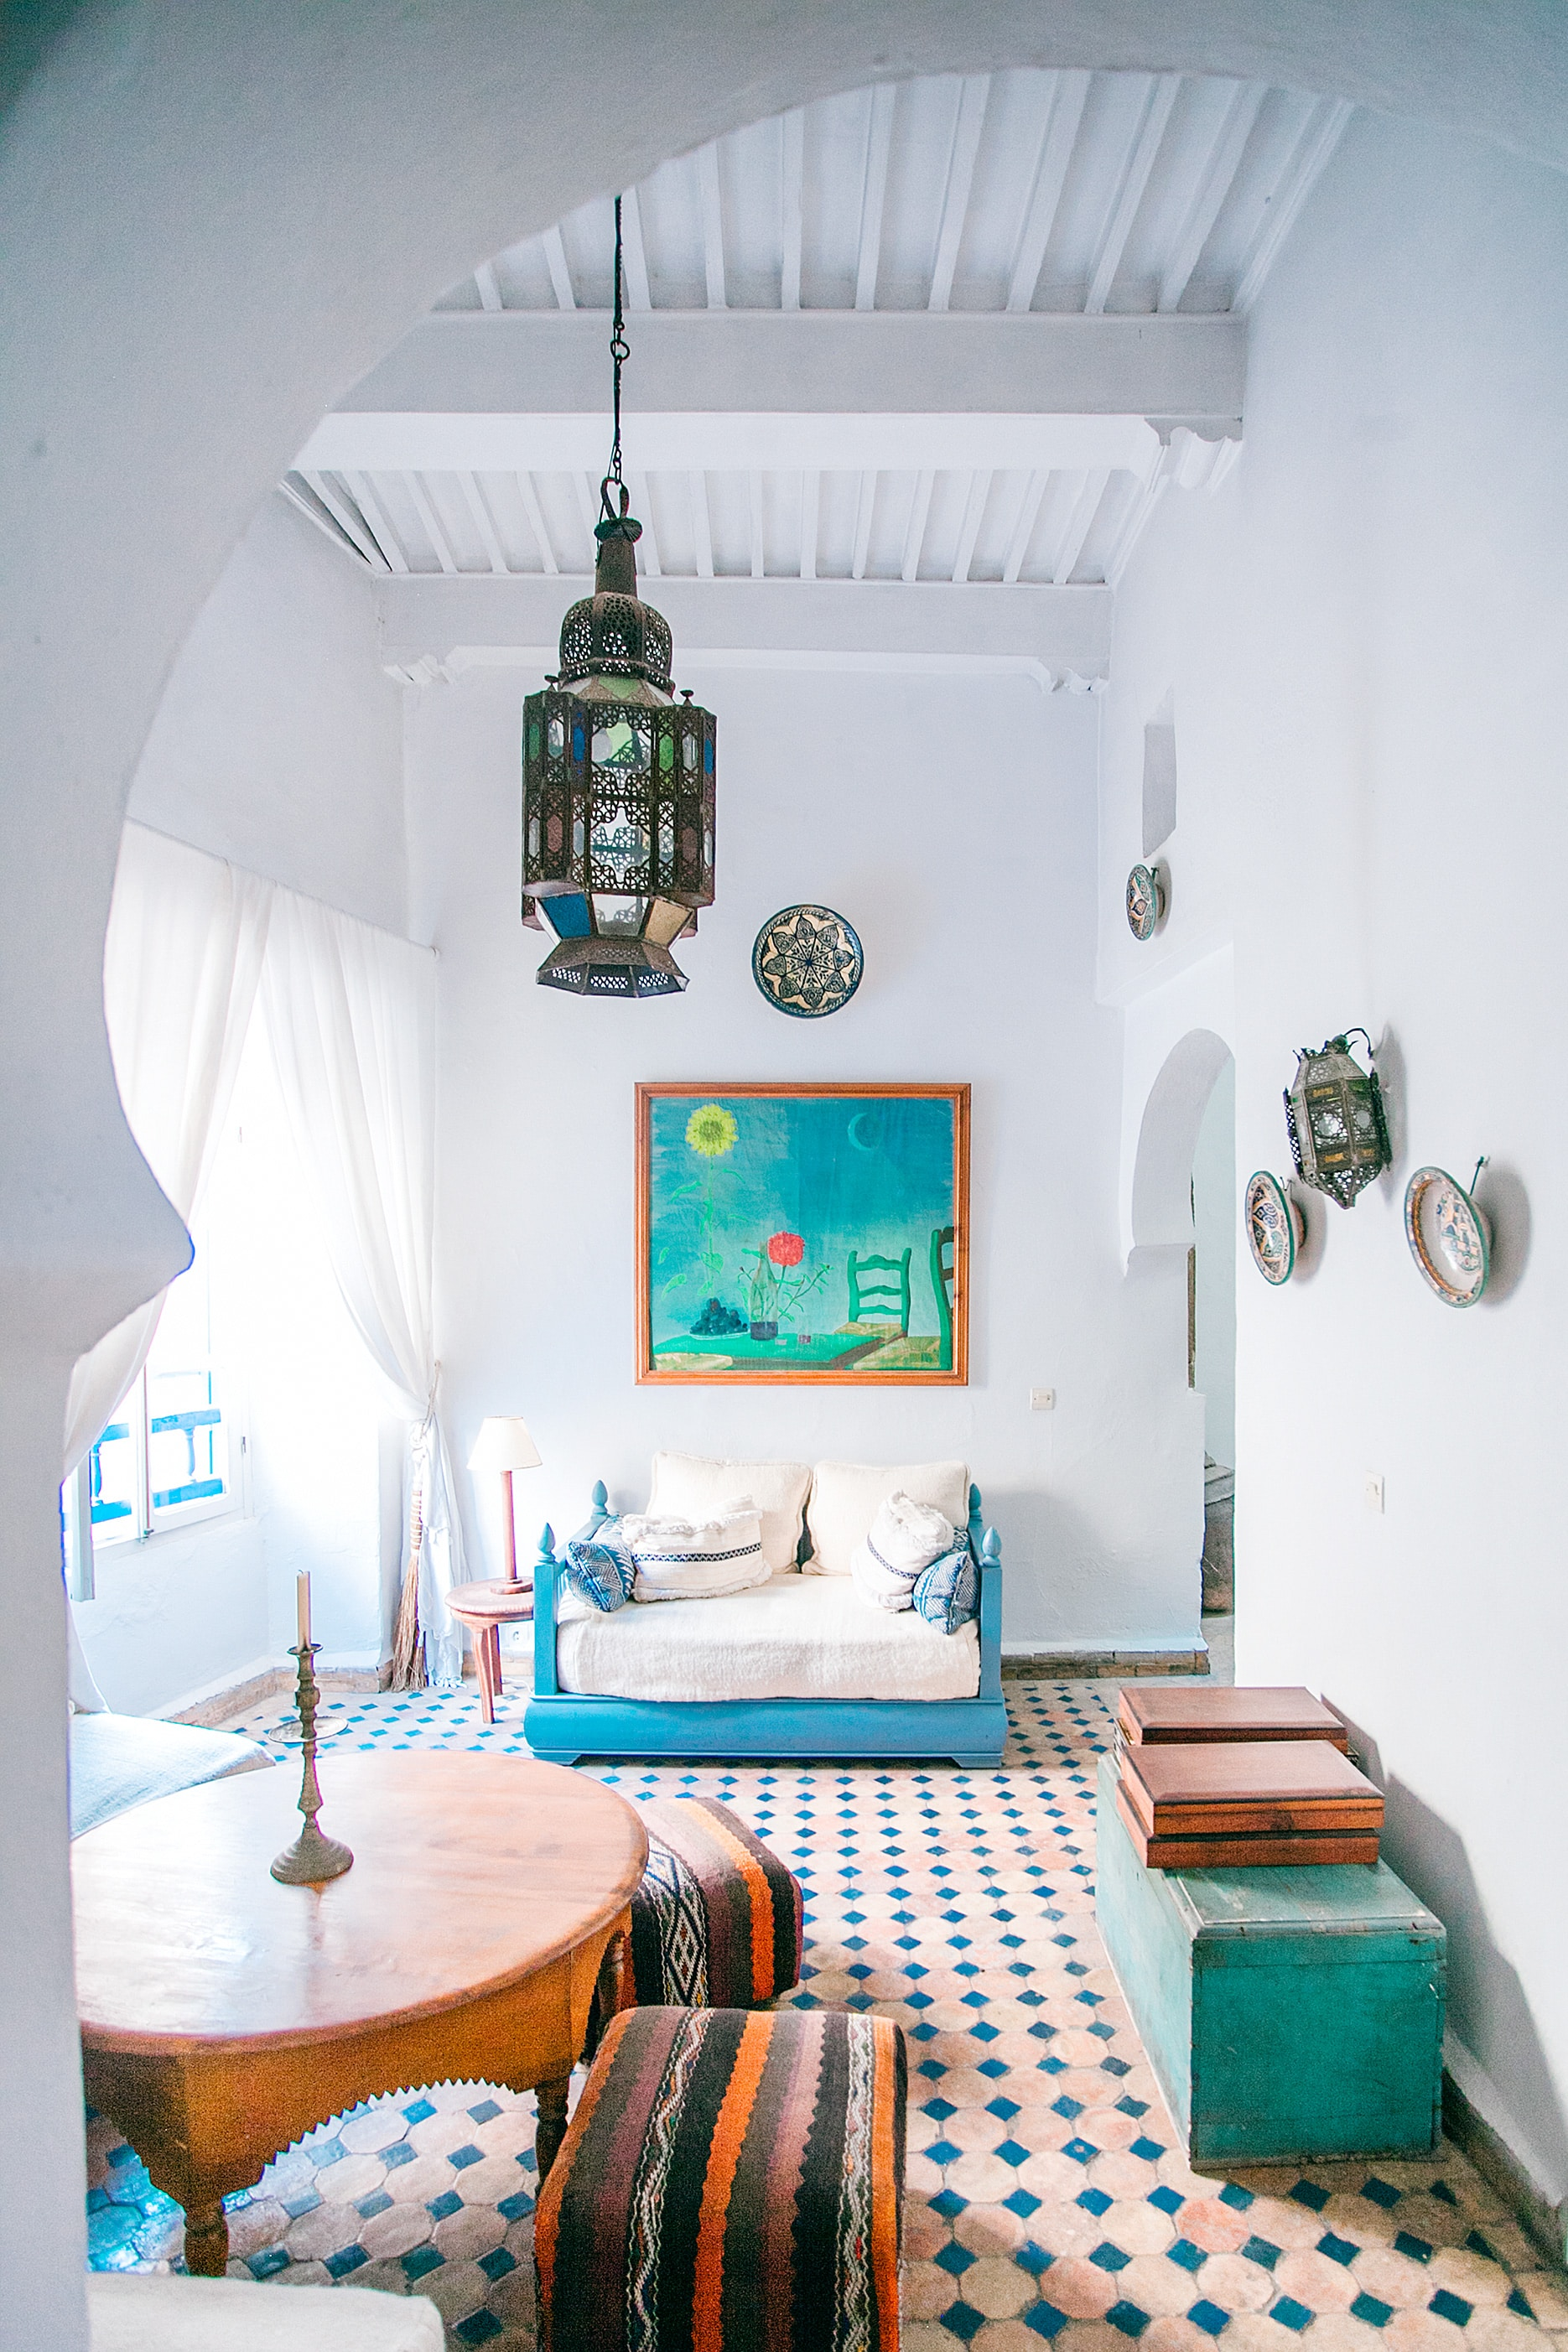Painting: (610, 1056, 986, 1403)
Sofa: (526, 1436, 1008, 1775)
Table: (40, 1735, 694, 2279)
